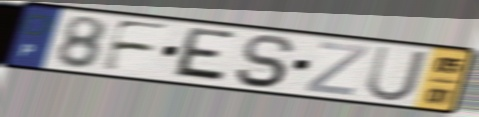8: (53, 14, 108, 70)
E: (168, 26, 239, 86)
F: (98, 17, 174, 74)
S: (232, 33, 298, 90)
U: (363, 44, 431, 103)
Z: (302, 40, 372, 98)
